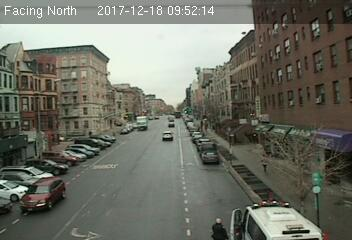car: (17, 175, 65, 209), (202, 150, 219, 164), (161, 131, 174, 140)
police: (234, 201, 328, 240)
